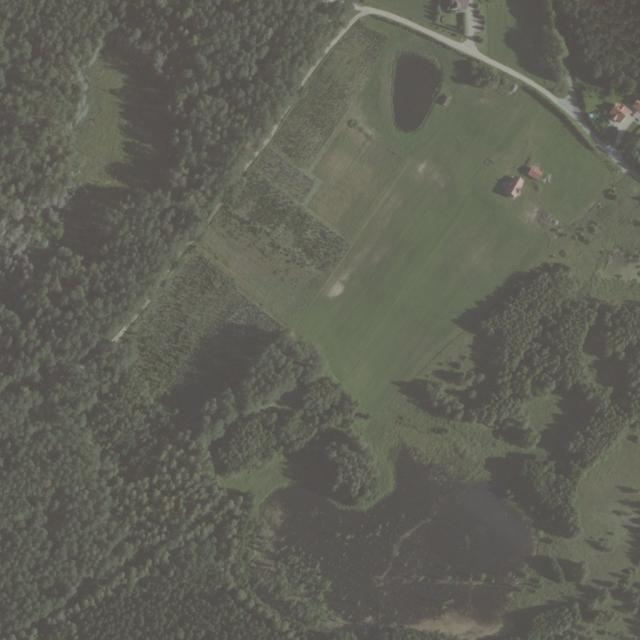greenland: (101, 235, 368, 511), (392, 468, 548, 623), (180, 323, 349, 449), (198, 365, 365, 486), (370, 379, 515, 494), (282, 412, 393, 515), (215, 322, 329, 421), (503, 0, 569, 91), (219, 453, 299, 518)
